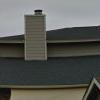Chimney: (19, 6, 58, 69)
